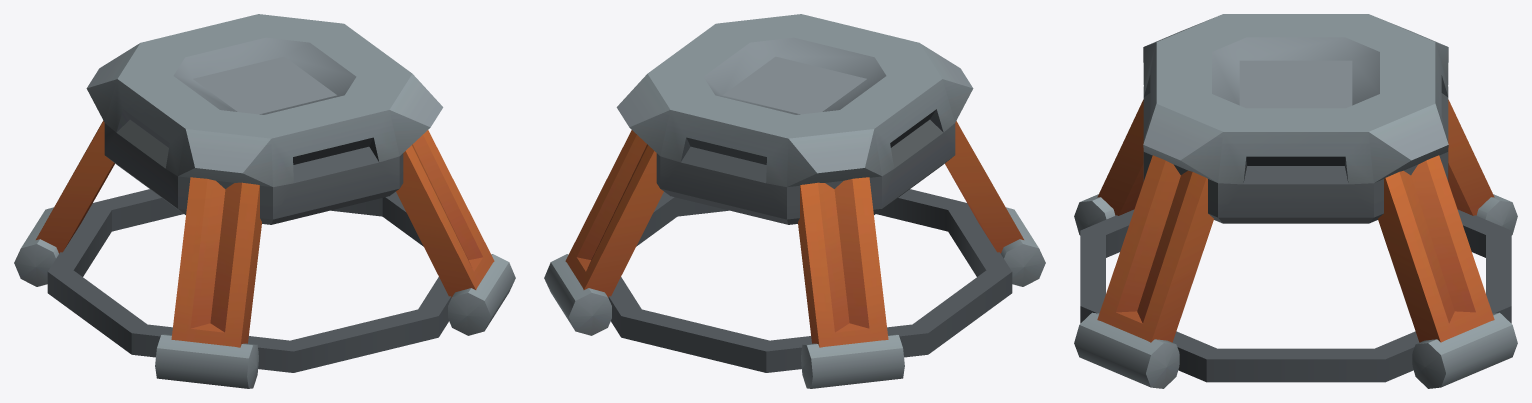
Rendered from structure-low.glb.
3 views of the same model, side by side, from view 1: azimuth 30°, elevation 25°; view 2: azimuth 150°, elevation 25°; view 3: azimuth 270°, elevation 25° (orthographic). The views are drawn at different scales.
Visible parts, largest first — view 1: structure_low; view 2: structure_low; view 3: structure_low.
Boxes of the visible parts, <box> form: structure_low: <box>14,14,515,388</box>; structure_low: <box>544,14,1045,388</box>; structure_low: <box>1074,14,1517,388</box>.
Size of the model in its own units: 1.75 by 1 by 1.75.
1 material, 1 textured.
